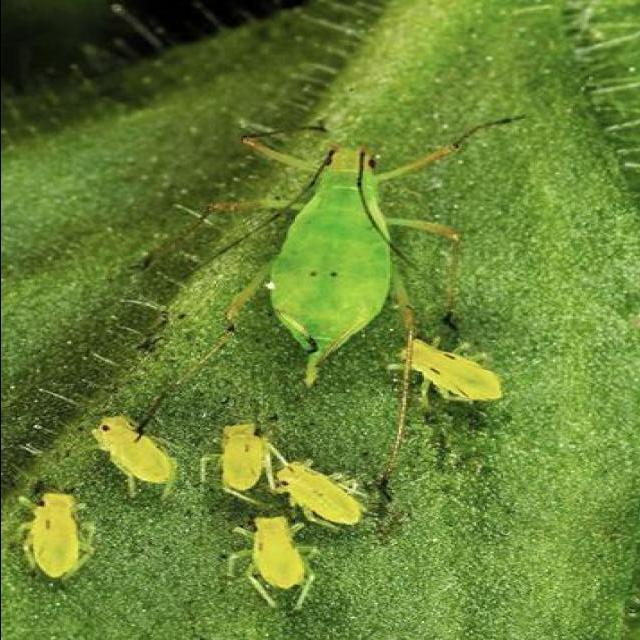aphid: (188, 132, 502, 386), (206, 508, 325, 617), (90, 386, 202, 496), (9, 470, 97, 590), (382, 332, 501, 412), (256, 446, 370, 524), (200, 397, 280, 498)
